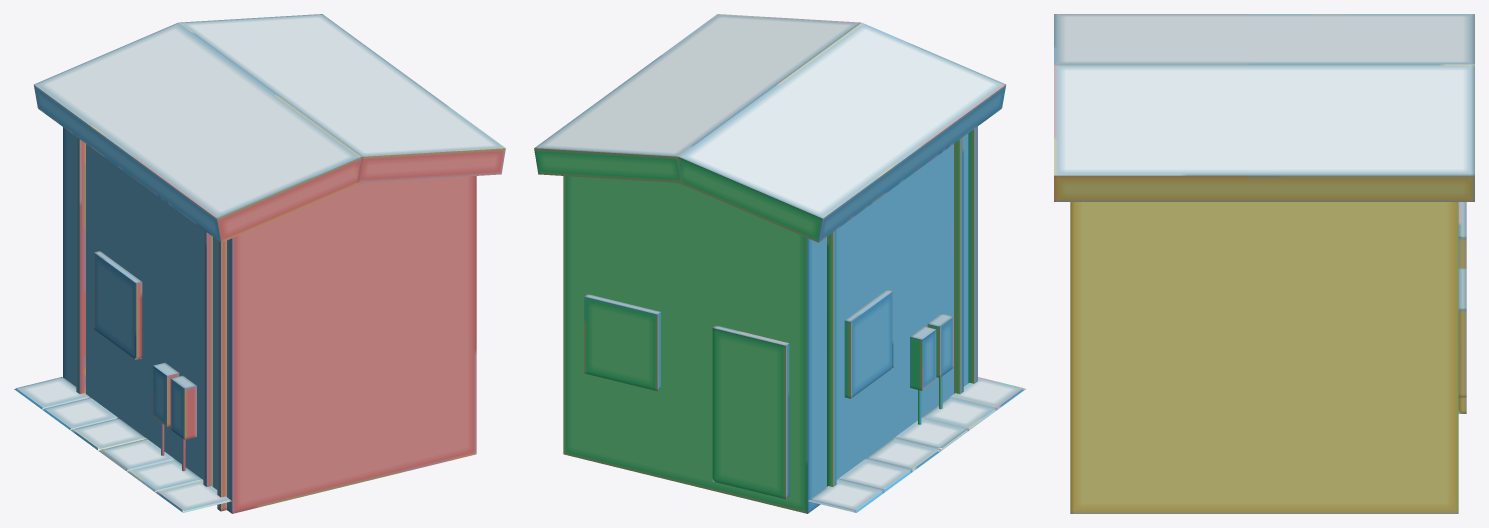
The model's file is House01.fbx.
3 views of the same model, side by side, from view 1: azimuth 30°, elevation 25°; view 2: azimuth 150°, elevation 25°; view 3: azimuth 270°, elevation 25° (orthographic). The views are drawn at different scales.
Parts seen in each view (by area): view 1: cuboid_6, cuboid_15, cuboid_14, cuboid_12, cuboid_11, cuboid_7, cuboid_17, cuboid_10, cuboid_4, cuboid_2, cuboid_3, cuboid_1 (+3 smaller); view 2: cuboid_6, cuboid_15, cuboid_14, cuboid_9, cuboid_13, cuboid_12, cuboid_11, cuboid_17, cuboid_7, cuboid_8, cuboid_5, cuboid_4 (+5 smaller); view 3: cuboid_6, cuboid_14, cuboid_15, cuboid_13, cuboid_9.
Boxes of the visible parts, x1=… form: cuboid_6: x1=63, y1=127, x2=476, y2=513; cuboid_15: x1=33, y1=23, x2=364, y2=242; cuboid_14: x1=178, y1=14, x2=505, y2=182; cuboid_12: x1=94, y1=251, x2=142, y2=359; cuboid_11: x1=217, y1=240, x2=226, y2=511; cuboid_7: x1=76, y1=137, x2=85, y2=393; cuboid_17: x1=203, y1=230, x2=212, y2=486; cuboid_10: x1=170, y1=375, x2=196, y2=439; cuboid_4: x1=42, y1=397, x2=118, y2=430; cuboid_2: x1=71, y1=418, x2=146, y2=450; cuboid_3: x1=99, y1=439, x2=174, y2=471; cuboid_1: x1=127, y1=459, x2=202, y2=492; cuboid_6: x1=563, y1=133, x2=968, y2=513; cuboid_15: x1=675, y1=23, x2=1006, y2=242; cuboid_14: x1=534, y1=14, x2=861, y2=182; cuboid_9: x1=712, y1=325, x2=789, y2=499; cuboid_13: x1=584, y1=294, x2=660, y2=391; cuboid_12: x1=844, y1=289, x2=893, y2=398; cuboid_11: x1=968, y1=126, x2=977, y2=383; cuboid_17: x1=954, y1=137, x2=963, y2=393; cuboid_7: x1=827, y1=230, x2=836, y2=486; cuboid_8: x1=910, y1=326, x2=936, y2=390; cuboid_5: x1=808, y1=480, x2=884, y2=512; cuboid_4: x1=837, y1=459, x2=912, y2=492; cuboid_6: x1=1070, y1=202, x2=1458, y2=513; cuboid_14: x1=1054, y1=64, x2=1474, y2=201; cuboid_15: x1=1054, y1=14, x2=1474, y2=64; cuboid_13: x1=1458, y1=268, x2=1466, y2=397; cuboid_9: x1=1458, y1=202, x2=1466, y2=413.
Bounding box in the file's own units: 323 × 325 × 325.
1 material, 1 textured.
